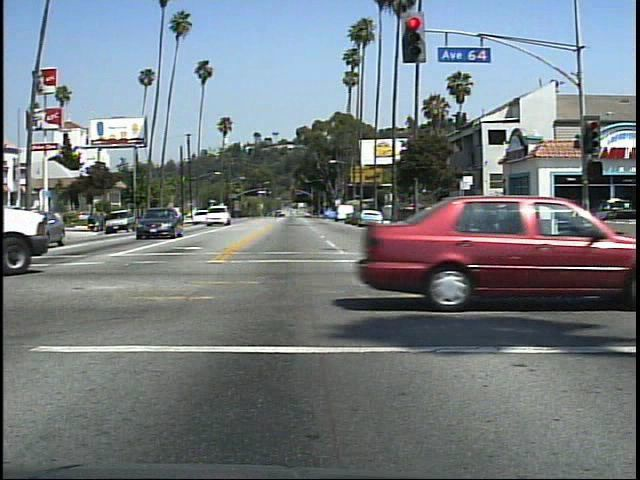person: (491, 195, 517, 244)
